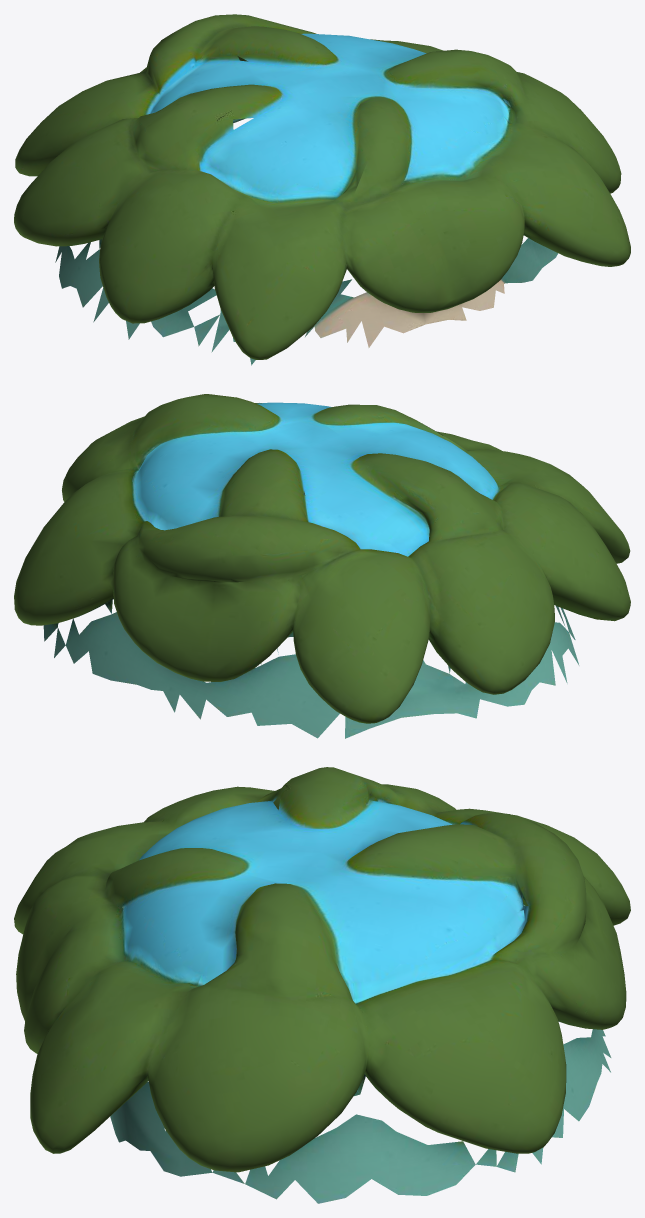
The model's file is mizu_reveal.glb.
3 renders of one model, top to bottom at view 1: azimuth 30°, elevation 25°; view 2: azimuth 150°, elevation 25°; view 3: azimuth 270°, elevation 25°, orthographic. The views are drawn at different scales.
Visible parts, largest first — view 1: mizu_reveal; view 2: mizu_reveal; view 3: mizu_reveal.
Boxes of the visible parts, x1=… form: mizu_reveal: x1=14, y1=14, x2=630, y2=365; mizu_reveal: x1=14, y1=394, x2=630, y2=738; mizu_reveal: x1=14, y1=767, x2=630, y2=1203.
Size of the model in its own units: 0.62 by 0.2384 by 0.5246.
Materials: 1 (1 with a texture image).
